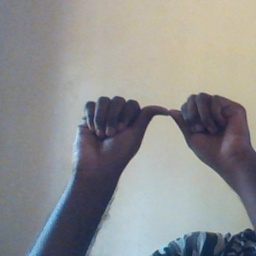A: (71, 87, 252, 176)
